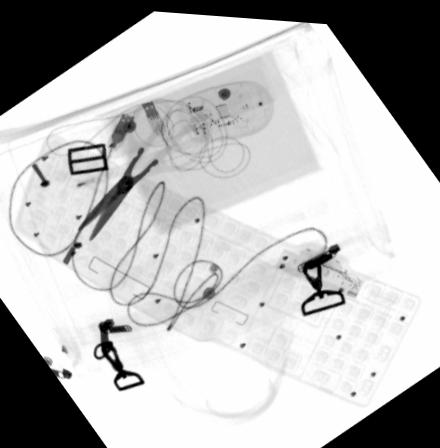Scissors: (75, 95, 210, 237)
